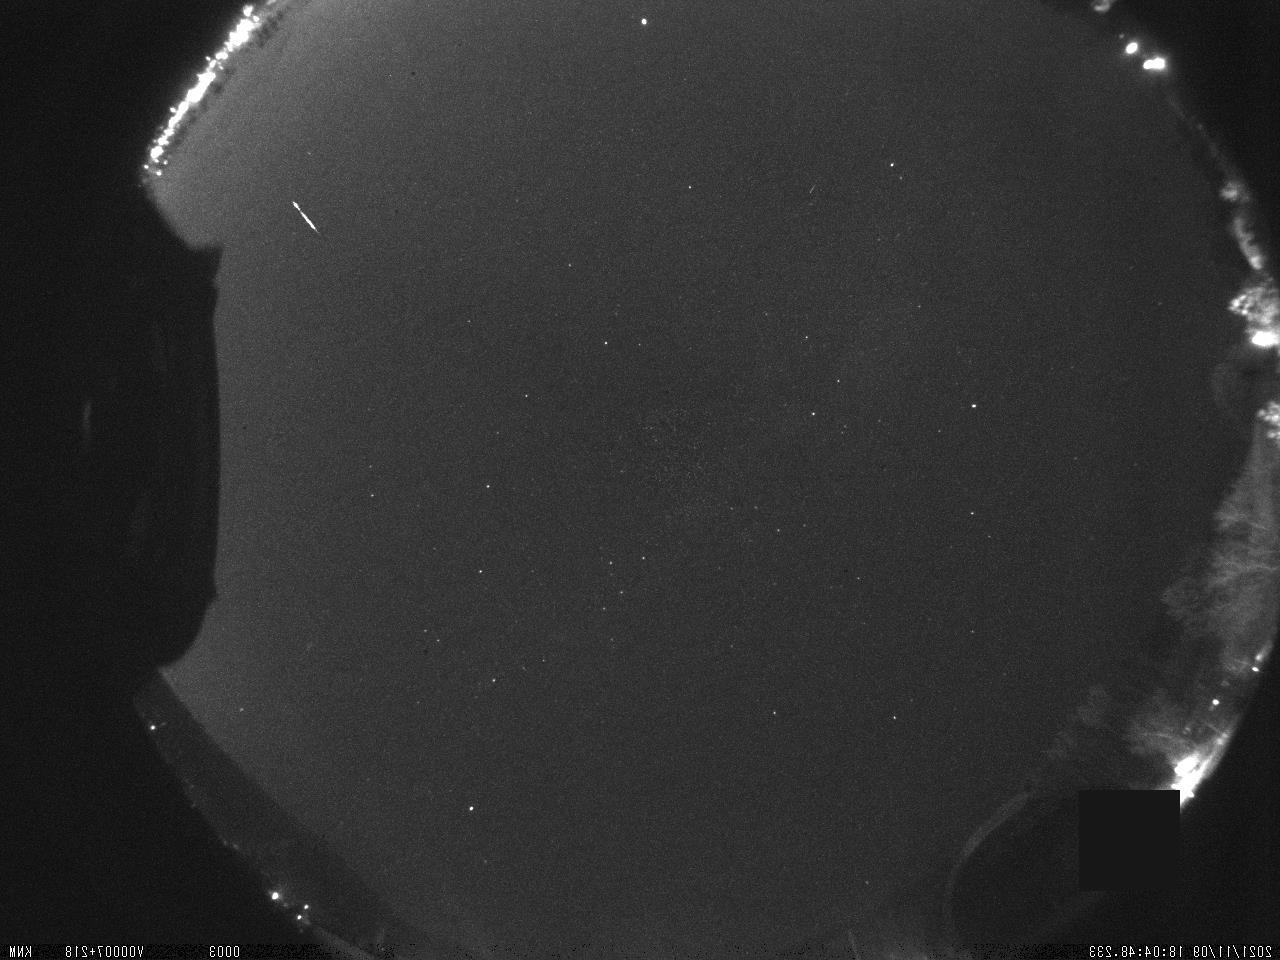meteor: (284, 189, 331, 247)
